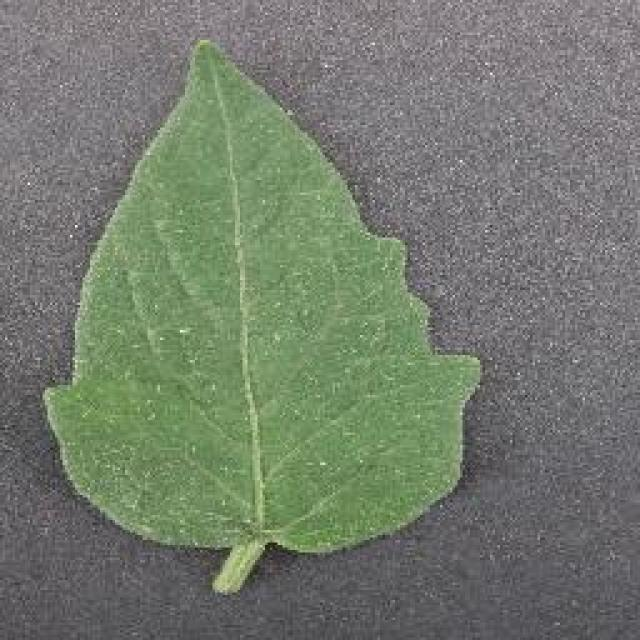Tomato healthy leaf: (54, 38, 481, 582)
